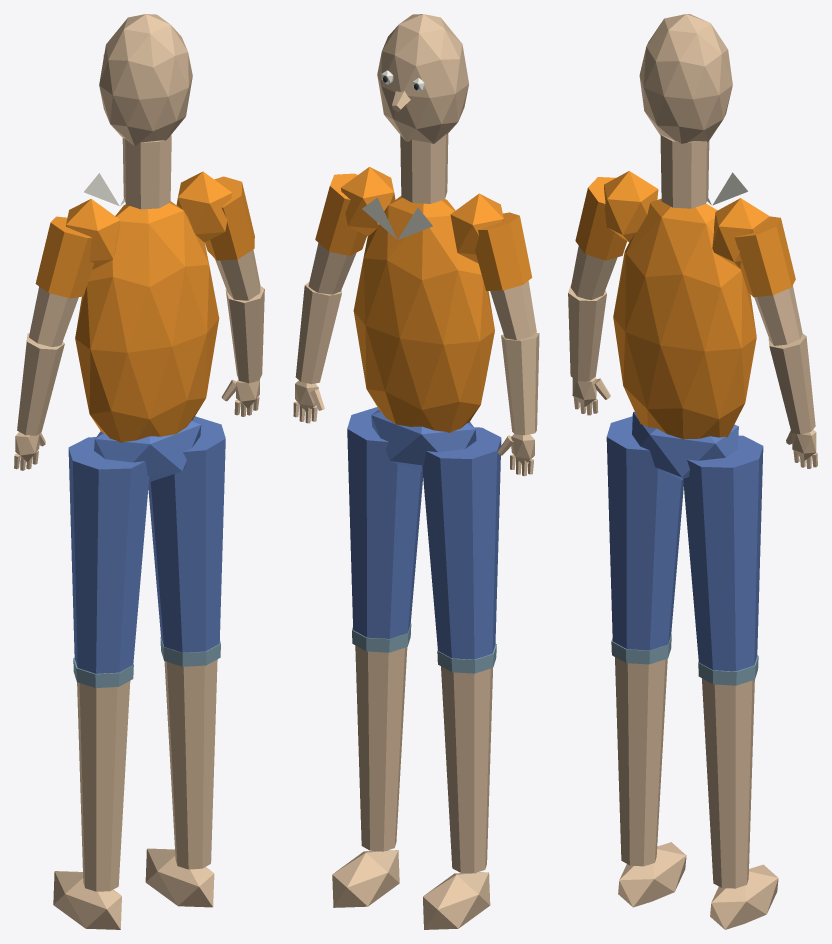
File: OutfitScaredGuyInShorts.fbx
The picture shows the model from 3 angles, left to right: view 1: azimuth 30°, elevation 25°; view 2: azimuth 150°, elevation 25°; view 3: azimuth 330°, elevation 25°; orthographic projection.
Parts seen in each view (by area): view 1: Torso, ThighLeft, ThighRight, Face, CalfLeft, CalfRight, SleeveLeft, Neck, Waist, ForearmSkinLeft, FootLeft, FootRight (+9 smaller); view 2: Torso, ThighLeft, ThighRight, Face, CalfLeft, CalfRight, SleeveLeft, ForearmSkinLeft, FootLeft, FootRight, Waist, ForearmSkinRight (+9 smaller); view 3: Torso, ThighRight, ThighLeft, Face, CalfRight, CalfLeft, SleeveRight, Neck, Waist, ForearmSkinRight, ForearmSkinLeft, FootRight (+10 smaller).
Boxes of the visible parts, <box> form: Torso: <box>75,201,219,442</box>; ThighLeft: <box>68,437,149,673</box>; ThighRight: <box>148,416,225,652</box>; Face: <box>99,14,192,146</box>; CalfLeft: <box>77,681,130,891</box>; CalfRight: <box>164,659,217,869</box>; SleeveLeft: <box>35,216,94,298</box>; Neck: <box>122,134,171,209</box>; Waist: <box>94,419,201,482</box>; ForearmSkinLeft: <box>17,333,64,435</box>; FootLeft: <box>53,871,121,929</box>; FootRight: <box>145,848,214,907</box>; Torso: <box>353,196,494,432</box>; ThighLeft: <box>422,427,501,659</box>; ThighRight: <box>347,407,423,638</box>; Face: <box>377,14,468,143</box>; CalfLeft: <box>441,666,492,873</box>; CalfRight: <box>355,645,407,851</box>; SleeveLeft: <box>475,212,532,290</box>; ForearmSkinLeft: <box>501,332,539,435</box>; FootLeft: <box>423,872,490,929</box>; FootRight: <box>332,850,399,907</box>; Waist: <box>371,409,476,471</box>; ForearmSkinRight: <box>295,282,341,384</box>; Torso: <box>613,198,756,439</box>; ThighRight: <box>683,435,763,671</box>; ThighLeft: <box>606,416,683,650</box>; Face: <box>639,14,732,143</box>; CalfRight: <box>702,678,754,888</box>; CalfLeft: <box>615,657,667,866</box>; SleeveRight: <box>734,216,795,297</box>; Neck: <box>660,134,709,208</box>; Waist: <box>632,411,738,479</box>; ForearmSkinRight: <box>768,333,815,434</box>; ForearmSkinLeft: <box>568,284,606,381</box>; FootRight: <box>710,864,778,929</box>.
Bounding box in the file's own units: 0.4916 × 1.75 × 0.2243.
